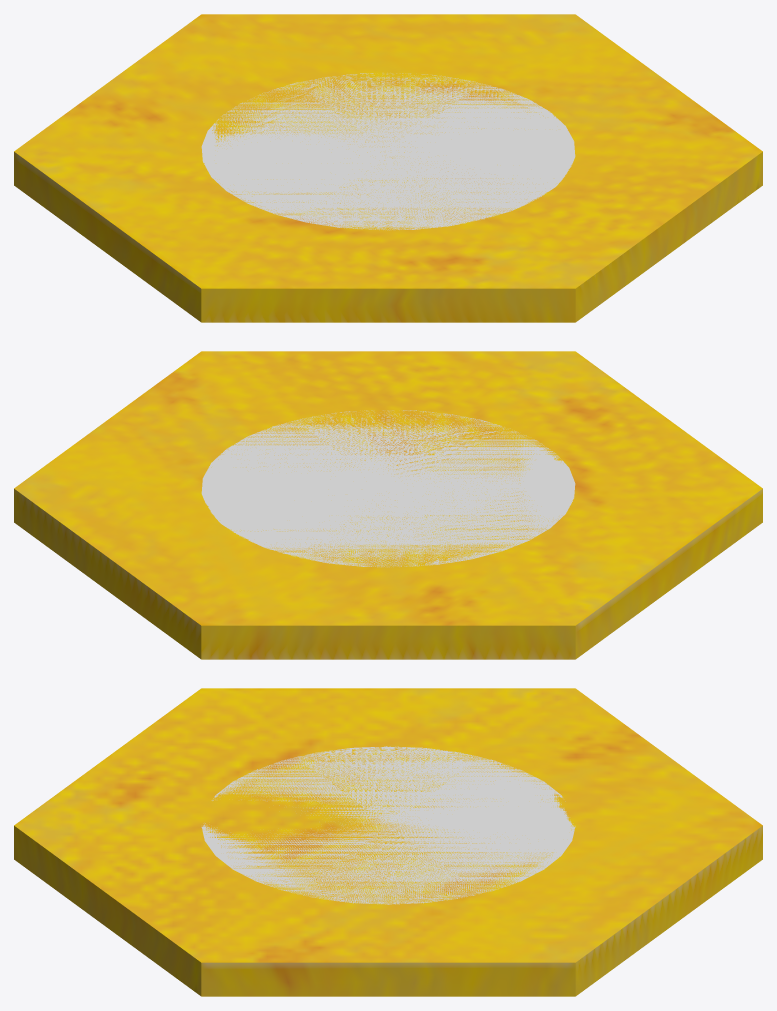
File: cascadia4.glb
3 renders of one model, top to bottom at view 1: azimuth 30°, elevation 25°; view 2: azimuth 150°, elevation 25°; view 3: azimuth 270°, elevation 25°, orthographic.
Parts seen in each view (by area): view 1: tile, token; view 2: tile, token; view 3: tile, token.
Part boxes in pixels (x1,y1,x2,y2): tile: [14, 14, 762, 322]; token: [201, 73, 575, 230]; tile: [14, 351, 762, 659]; token: [201, 410, 575, 567]; tile: [14, 688, 762, 996]; token: [201, 746, 575, 904].
Size of the model in its own units: 1.73 by 0.1 by 2.
1 material, 1 textured.
